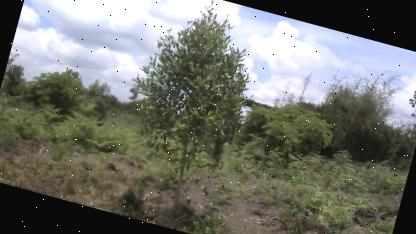tree: (100, 0, 273, 224)
